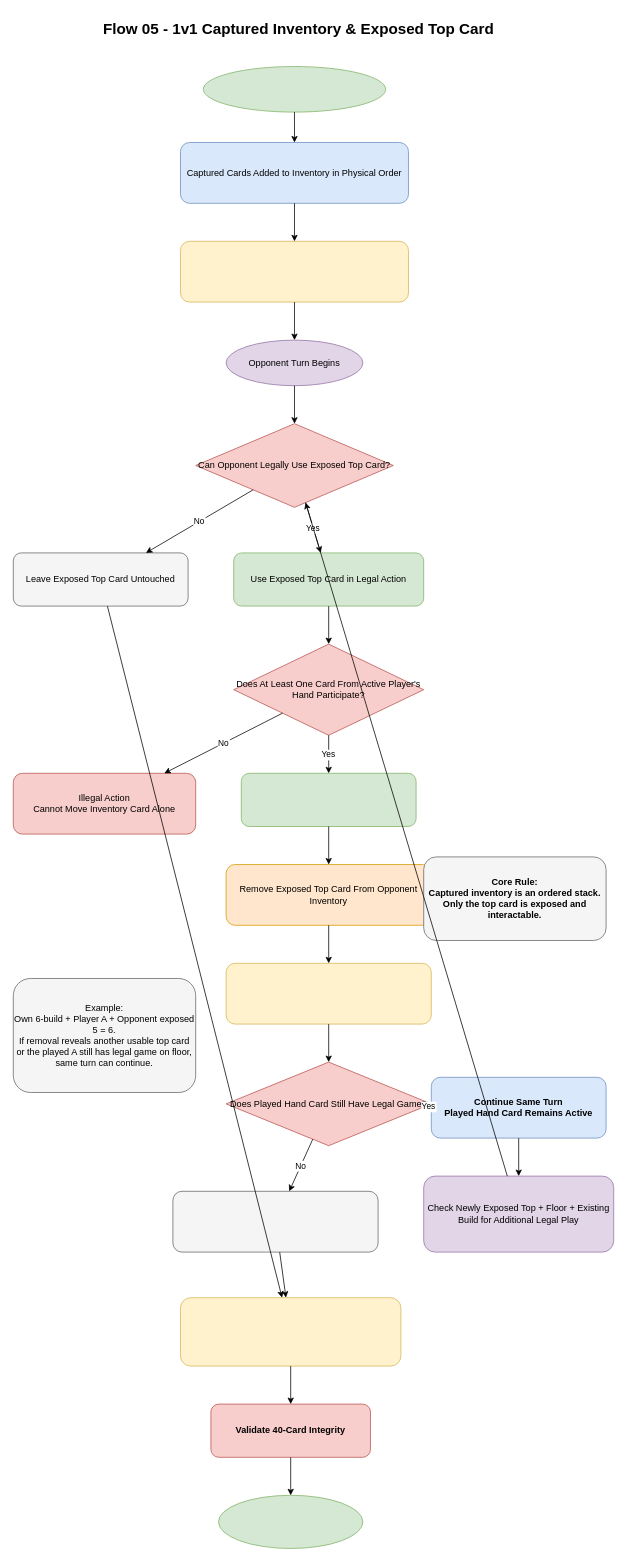
The diagram is 627 pixels wide and 1562 high, and some of its shapes have lost their labels. The centre of each missing label's shape, as x and y in pixels:
"End Turn Pass to Opponent" belongs at point (290, 1521).
"Last Card in Inventory Becomes Exposed Top Card" belongs at point (294, 271).
"Legal Use of Exposed Top Card" belongs at point (328, 799).
"No Further Legal Game With Played Card" belongs at point (275, 1221).
"Player Makes Successful Capture" belongs at point (294, 89).
"Reveal Next Card Underneath as New Exposed Top" belongs at point (328, 993).
"Update Inventory / Floor / Build / Exposed Top / Last Capture" belongs at point (290, 1331).
